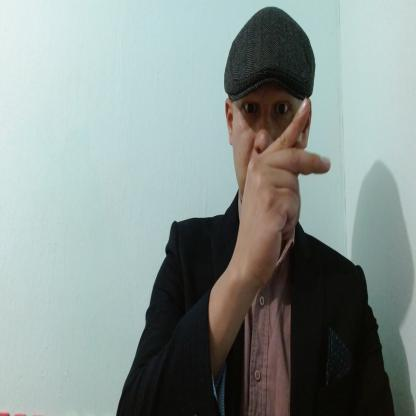P: (235, 95, 332, 287)
